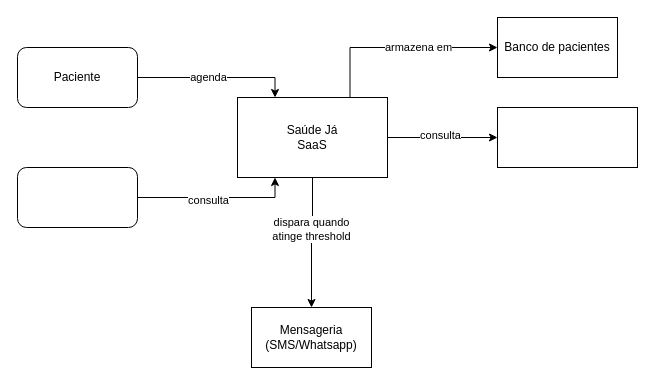
The diagram is 655 pixels wide and 385 high, and some of its shapes have lost their labels. Each missing label, with the centre of its shape:
"Classifcador no-show API" goes at (567,137).
"Clínica" goes at (77,197).
